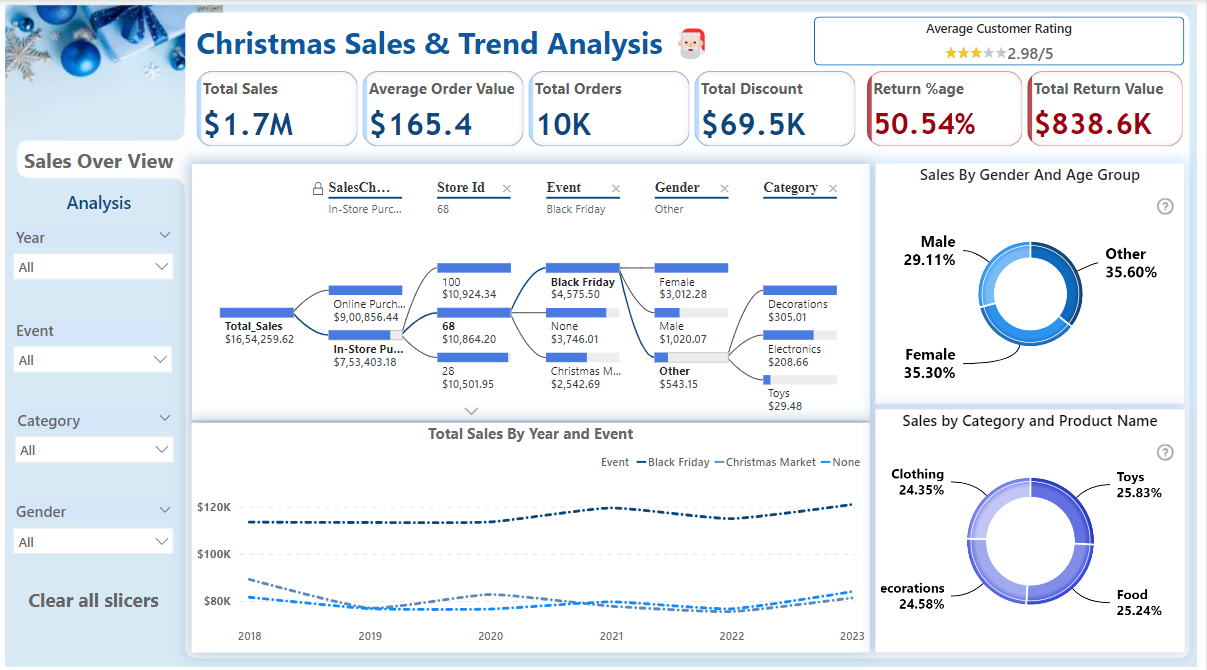

Layout of this report page (visuals, bound fields, positions):
{"tool":"powerbi","page":{"name":"Sales Over View","canvas":[1280,720],"ordinal":0},"visuals":[{"type":"cardVisual","fields":{"Data":["Sum(xmas_sales.Sales)","Avg(xmas_sales.Sales)","CountNonNull(xmas_sales.Transaction ID)","Sum(xmas_sales.Discount Amount)"]},"box":[205.4,70.1,710.7,90.6],"z":0},{"type":"cardVisual","fields":{"Data":["xmas_sales.ReturnPercentage","Sum(xmas_sales.Return Value)"]},"box":[916.2,70,345.2,90.7],"z":1000},{"type":"decompositionTreeVisual","fields":{"Analyze":["xmas_sales.Total_Sales"],"ExplainBy":["xmas_sales.SalesChannel","xmas_sales.Cleaned Store Id","xmas_sales.Event","xmas_sales.Gender","xmas_sales.Category"]},"box":[205.4,173.2,719,272],"z":2000},{"type":"lineChart","title":"Total Sales By Year and Event","fields":{"Category":["Calendar Table.Date.Variation.Date Hierarchy.Year","Calendar Table.Date.Variation.Date Hierarchy.Quarter","Calendar Table.Date.Variation.Date Hierarchy.Month","Calendar Table.Date.Variation.Date Hierarchy.Day"],"Y":["xmas_sales.Total_Sales"],"Series":["xmas_sales.Event"]},"box":[205.4,448.8,719,243.5],"z":3000},{"type":"funnel","title":"Sales By Gender And Age Group ","fields":{"Category":["xmas_sales.Gender","xmas_sales.Age Group"],"Y":["Sum(xmas_sales.Sales)"]},"box":[930.5,173.4,327.7,254.5],"z":4000},{"type":"donutChart","title":"Sales by Category and Product Name","fields":{"Category":["xmas_sales.Category"],"Series":["Product.Product Name"],"Y":["Sum(xmas_sales.Sales)"]},"box":[930.5,434.5,327.7,257.3],"z":5000},{"type":"slicer","fields":{"Values":["Calendar Table.Year"]},"box":[11.1,240.2,179.7,68.4],"z":6000},{"type":"slicer","fields":{"Values":["xmas_sales.Event"]},"box":[11.1,338.8,178.1,74.8],"z":7000},{"type":"slicer","fields":{"Values":["xmas_sales.Category"]},"box":[12.7,434.2,178.1,70],"z":8000},{"type":"slicer","fields":{"Values":["xmas_sales.Gender"]},"box":[11.1,531.3,179.7,68.4],"z":9000},{"type":"textbox","box":[205.2,17.5,575.8,52.5],"z":10000},{"type":"shape","box":[866,18,392.7,52],"z":11000},{"type":"pageNavigator","box":[21.9,154.7,167.2,79.7],"z":12000},{"type":"actionButton","box":[22.3,620.3,154.3,50.9],"z":13000},{"type":"ratingsvisual001","fields":{"measure":["Avg(xmas_sales.Customer Satisfaction)"]},"box":[869.5,19.8,385.1,47.9],"z":14000}]}

Visuals, with their boxes in screenshot pixels (x1, y1, x2, y2), scaled from the page's 1280x720 canvas onto the 1207x670 screenshot:
cardVisual - Sum(xmas_sales.Sales) x Avg(xmas_sales.Sales): box(194, 65, 864, 150)
cardVisual - xmas_sales.ReturnPercentage x Sum(xmas_sales.Return Value): box(864, 65, 1189, 150)
decompositionTreeVisual - xmas_sales.Total_Sales x xmas_sales.SalesChannel: box(194, 161, 872, 414)
"Total Sales By Year and Event" lineChart: box(194, 418, 872, 644)
"Sales By Gender And Age Group " funnel: box(877, 161, 1186, 398)
"Sales by Category and Product Name" donutChart: box(877, 404, 1186, 644)
slicer - Calendar Table.Year: box(10, 224, 180, 287)
slicer - xmas_sales.Event: box(10, 315, 178, 385)
slicer - xmas_sales.Category: box(12, 404, 180, 469)
slicer - xmas_sales.Gender: box(10, 494, 180, 558)
textbox: box(193, 16, 736, 65)
shape: box(817, 17, 1187, 65)
pageNavigator: box(21, 144, 178, 218)
actionButton: box(21, 577, 167, 625)
ratingsvisual001 - Avg(xmas_sales.Customer Satisfaction): box(820, 18, 1183, 63)
